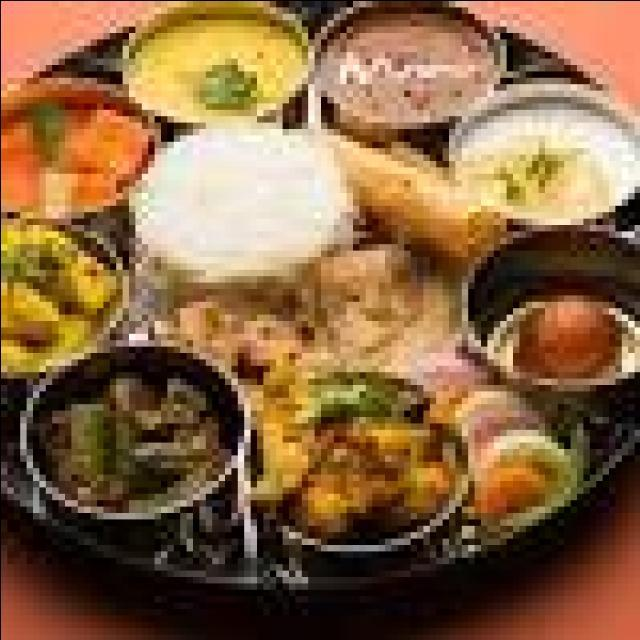dal: (442, 103, 627, 238), (121, 11, 307, 137), (1, 208, 131, 387), (462, 409, 586, 537)
sweet: (1, 95, 158, 222), (462, 408, 586, 533)
veg-fry: (33, 354, 246, 518), (307, 2, 503, 150)
